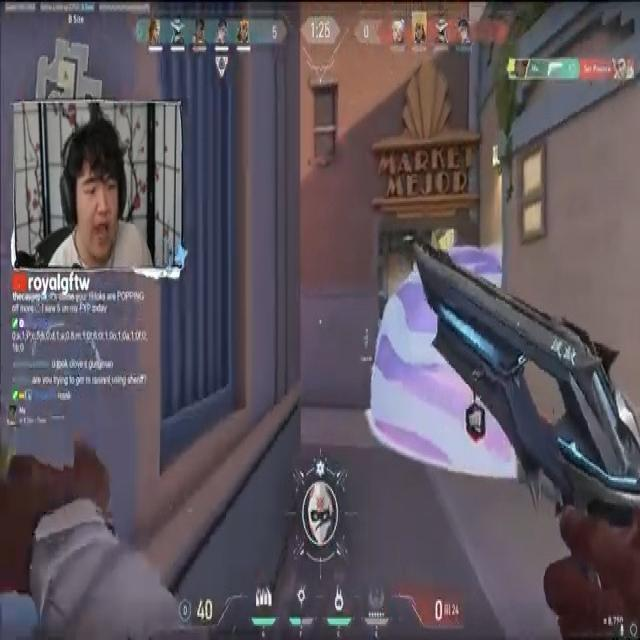smoke: (372, 254, 528, 484)
